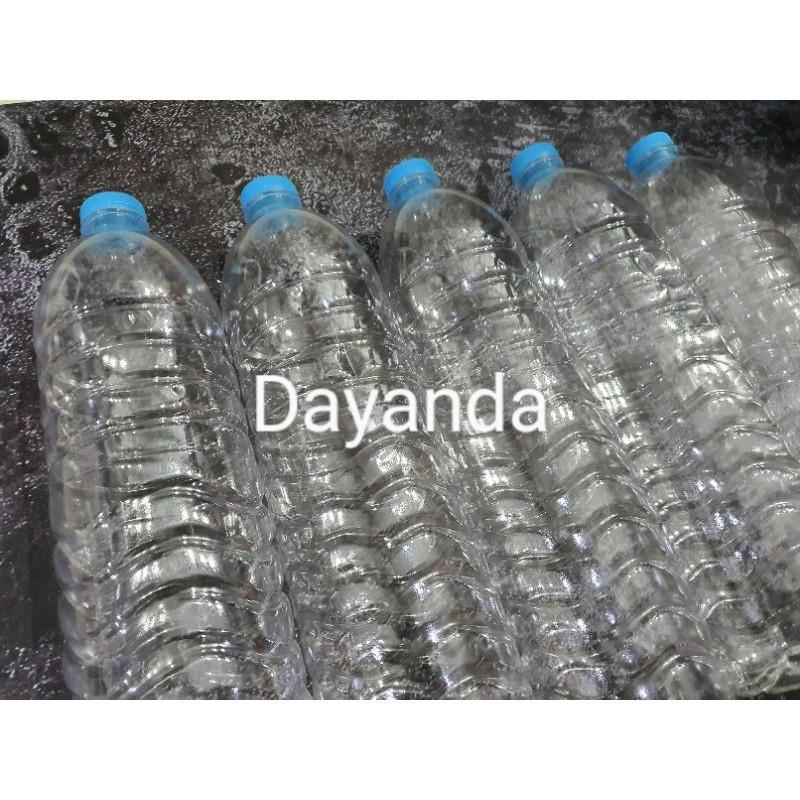bottle: (379, 158, 726, 701), (497, 145, 800, 695), (223, 165, 511, 703), (27, 182, 299, 700)
